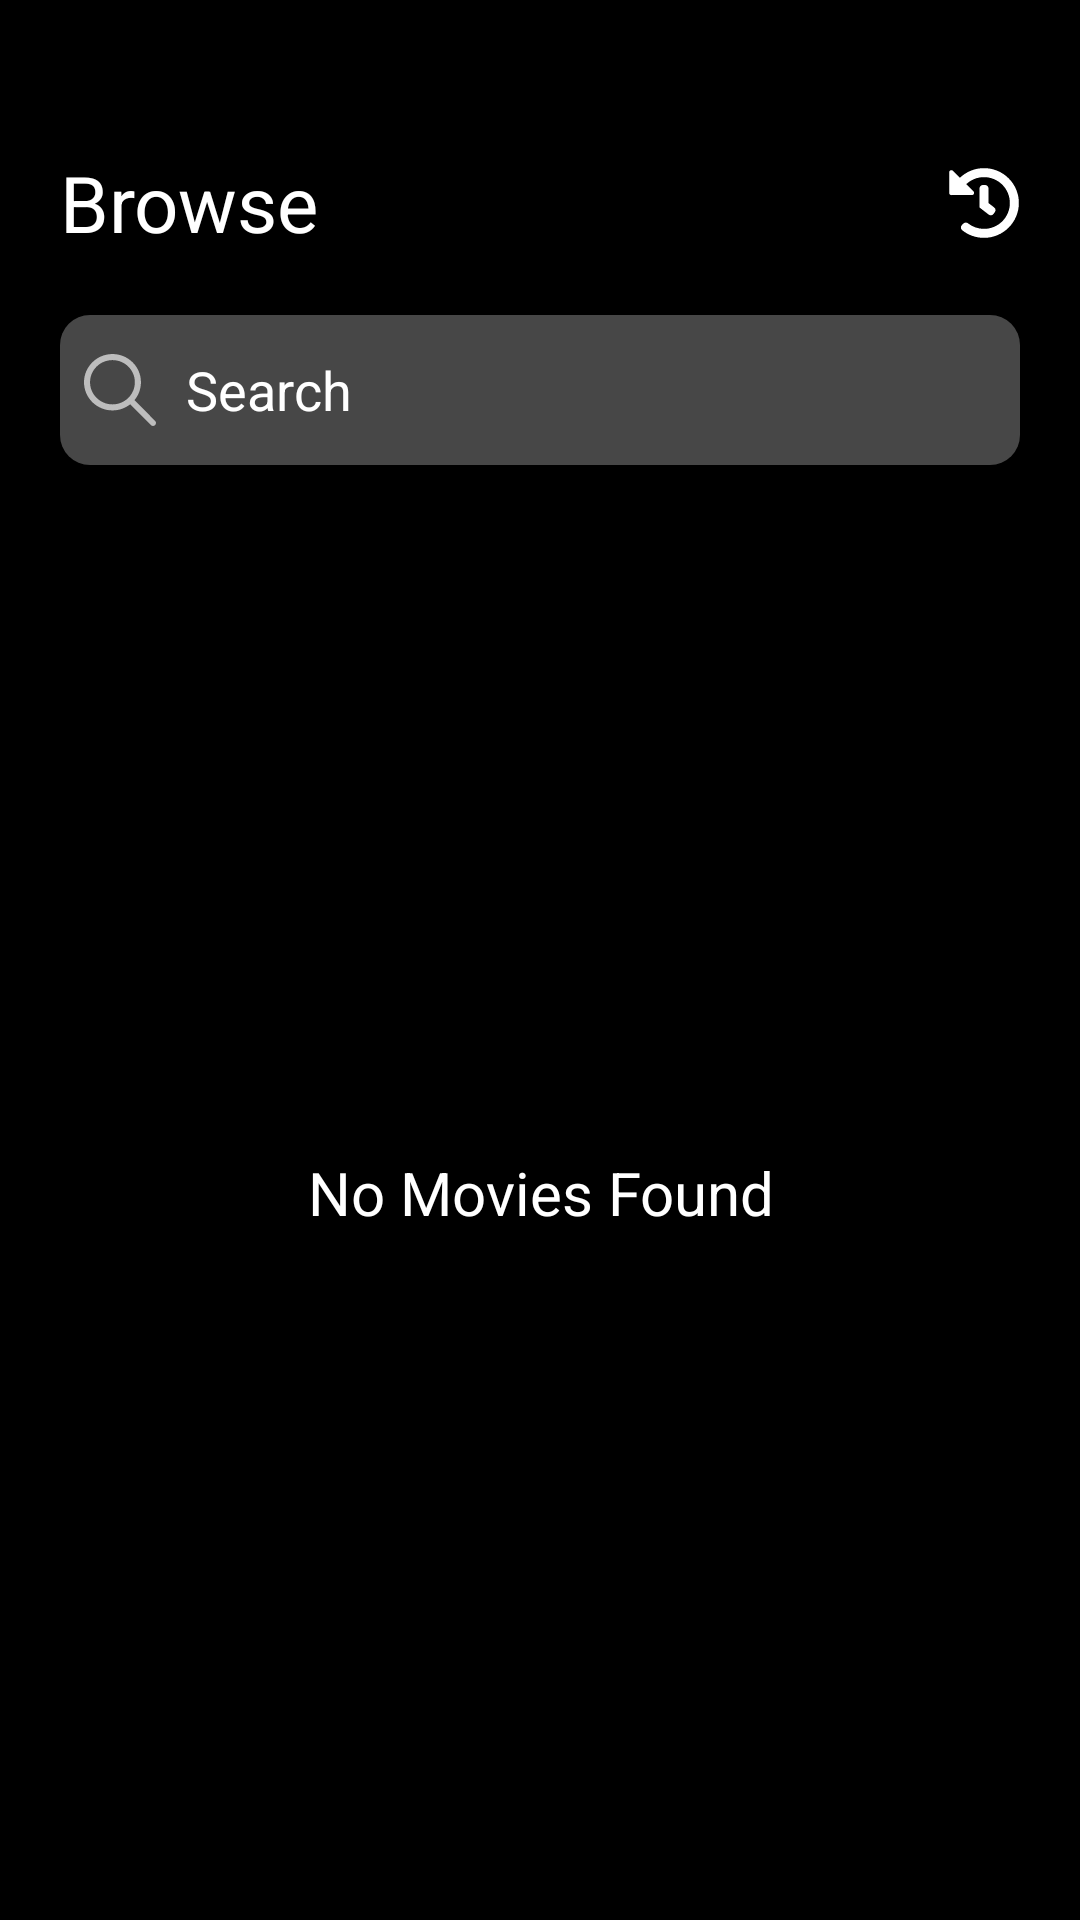

Icons on this 1080 × 1920 Android screen, each with its box as box=[x1, y1, x2, y2]:
history: box=[949, 168, 1019, 238]
